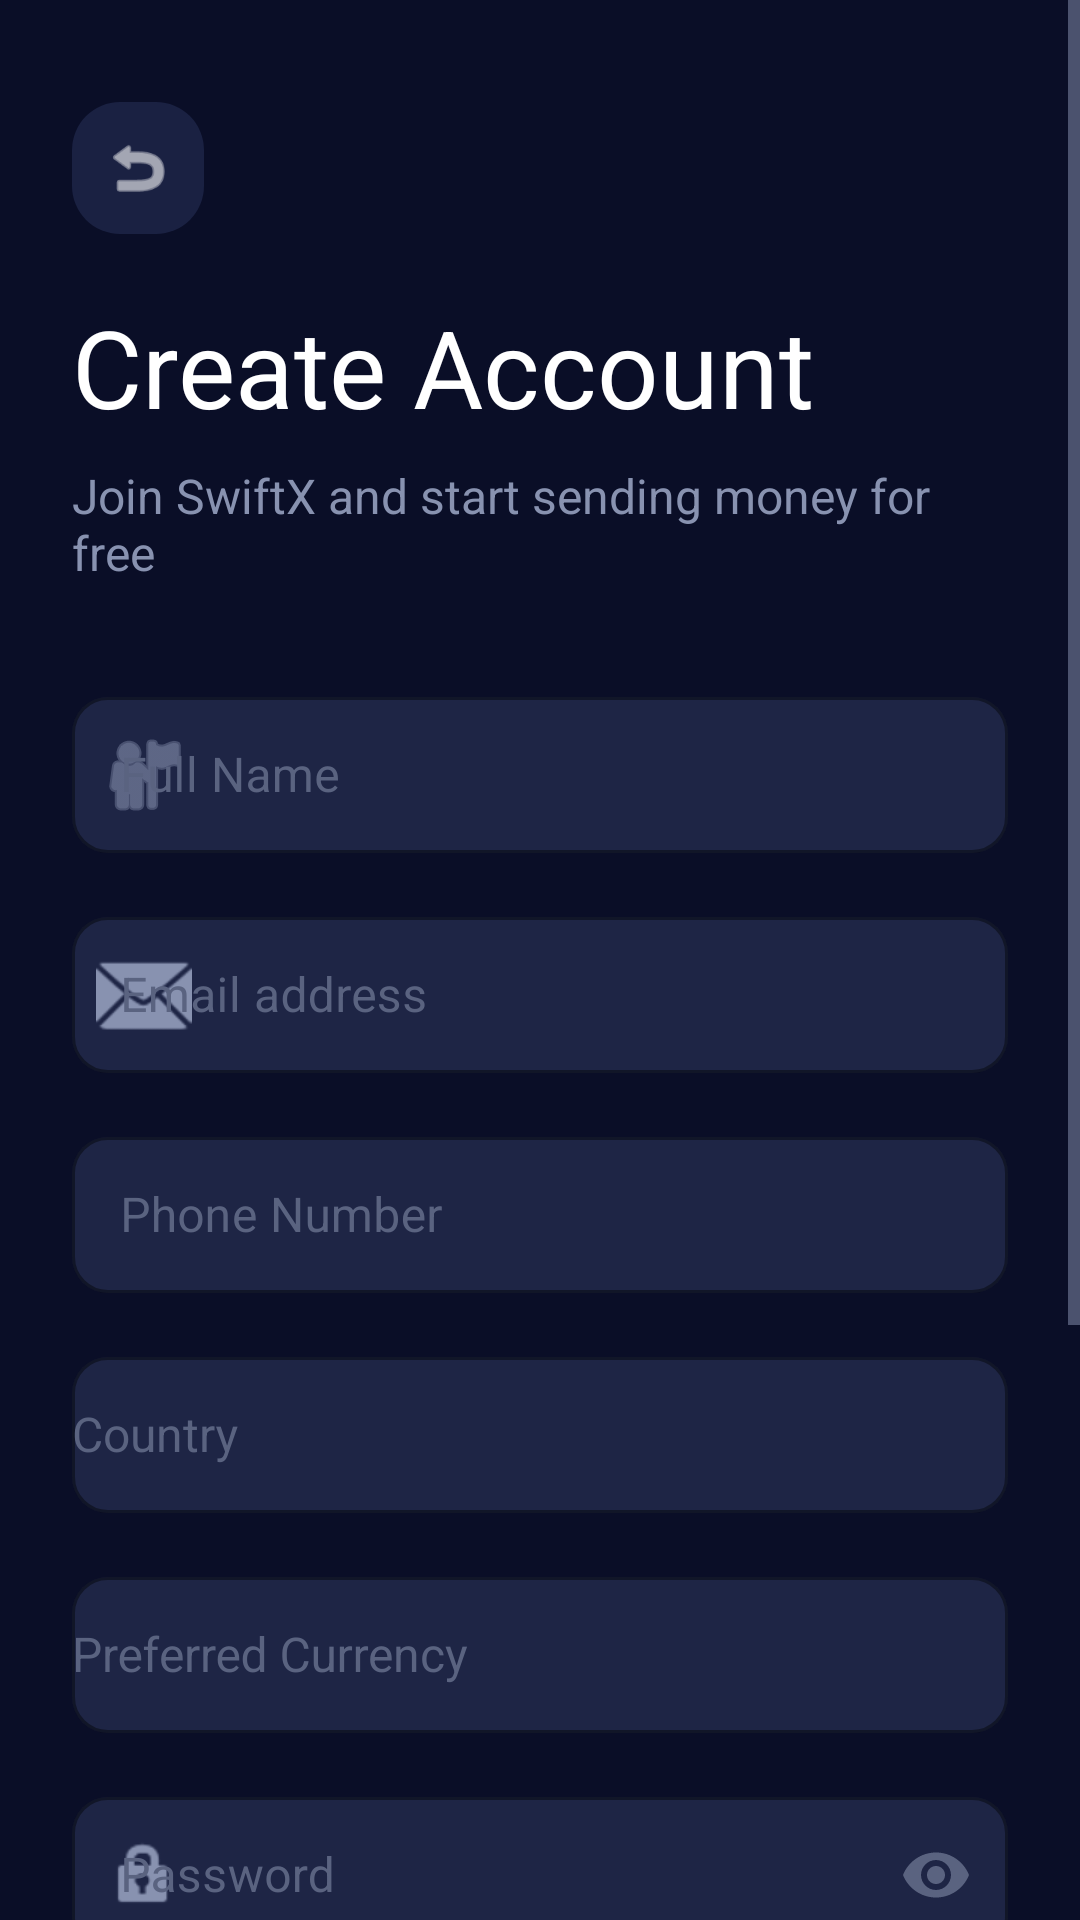

Icon bounding boxes for this 1080*1920 phone screenshot, format rect(x1, y1, x2, y2):
revert: rect(113, 145, 165, 192)
